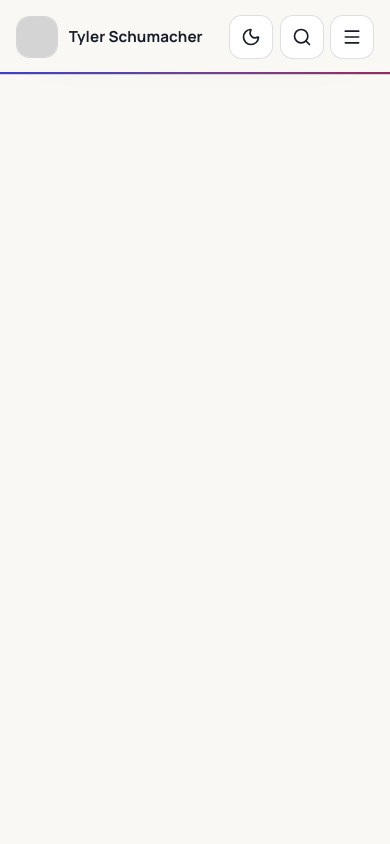
it: SiteHeader › opens the mobile sheet with semantic copy and external links
Step 1. Click the button named "Open navigation" → [352, 37], box x1=330 y1=15 x2=374 y2=59
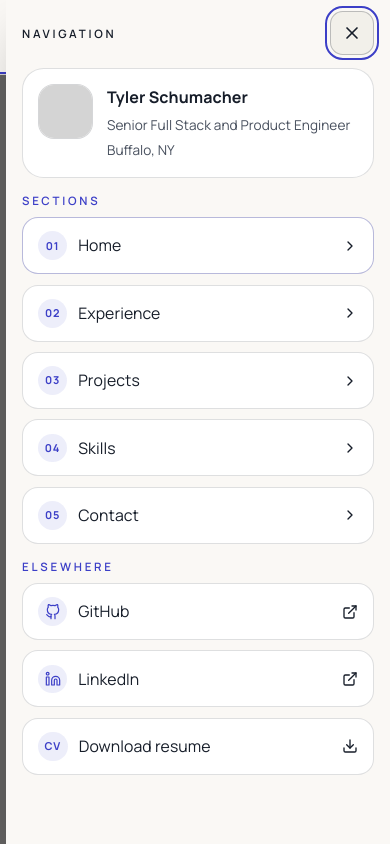
Expected: the dialog named "Site navigation" is shown
Expected: the navigation bar named "Mobile navigation" is shown, x1=22 y1=194 x2=374 y2=544
Expected: the text "Buffalo, NY" is shown, x1=107 y1=141 x2=175 y2=159
